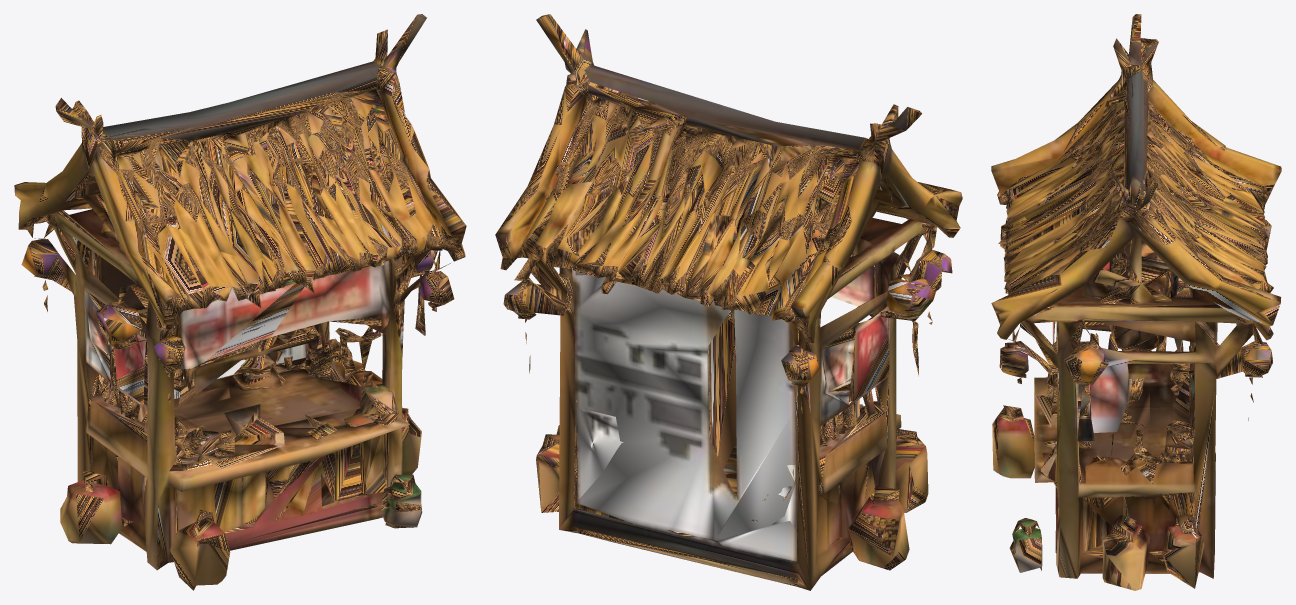
Rendered from bq_lantern_shop.lod1.glb.
3 renders of one model, left to right at view 1: azimuth 30°, elevation 25°; view 2: azimuth 150°, elevation 25°; view 3: azimuth 270°, elevation 25°, orthographic. The views are drawn at different scales.
Bounding box in the file's own units: 1.61 × 1.9 × 1.17.
Materials: 1 (1 with a texture image).
